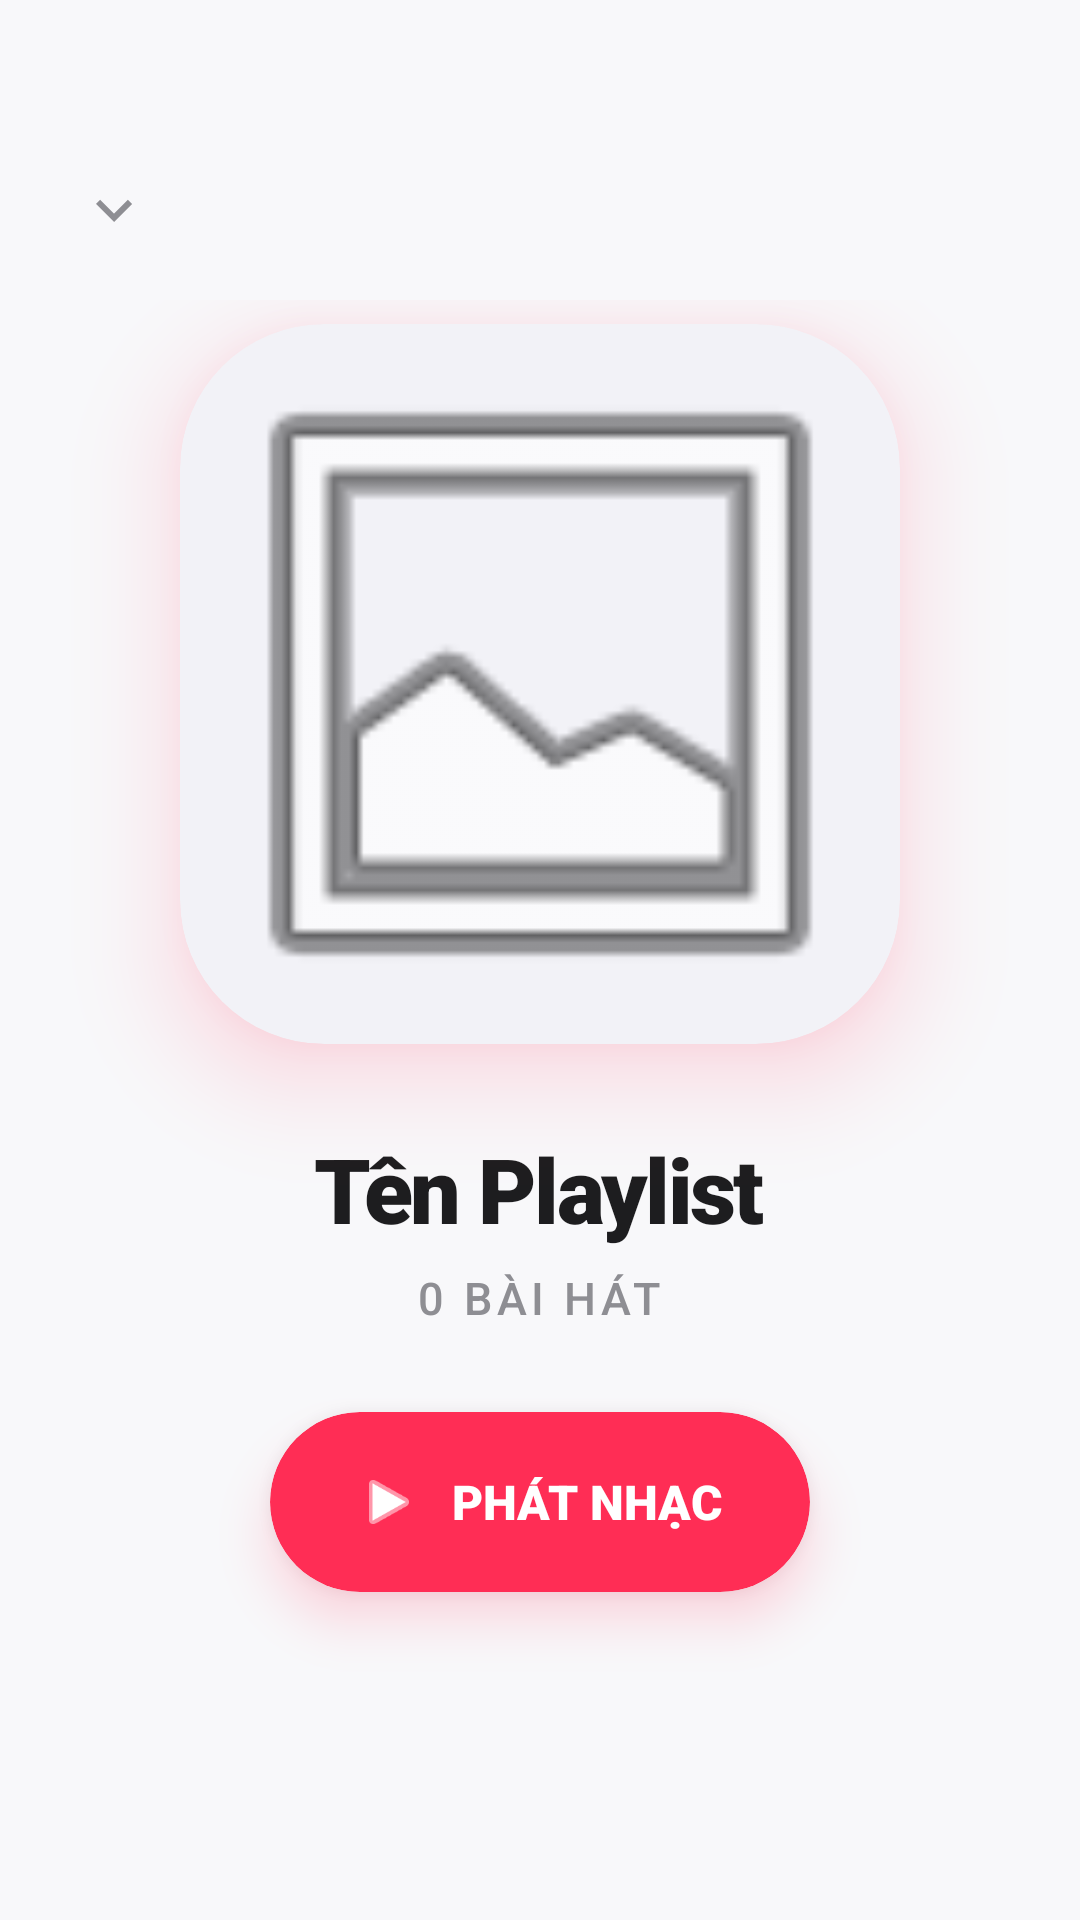

Where to tap for icons on this 1080×1920 app screen, as point (x, y):
chevron down: point (114, 211)
play: point (389, 1502)
